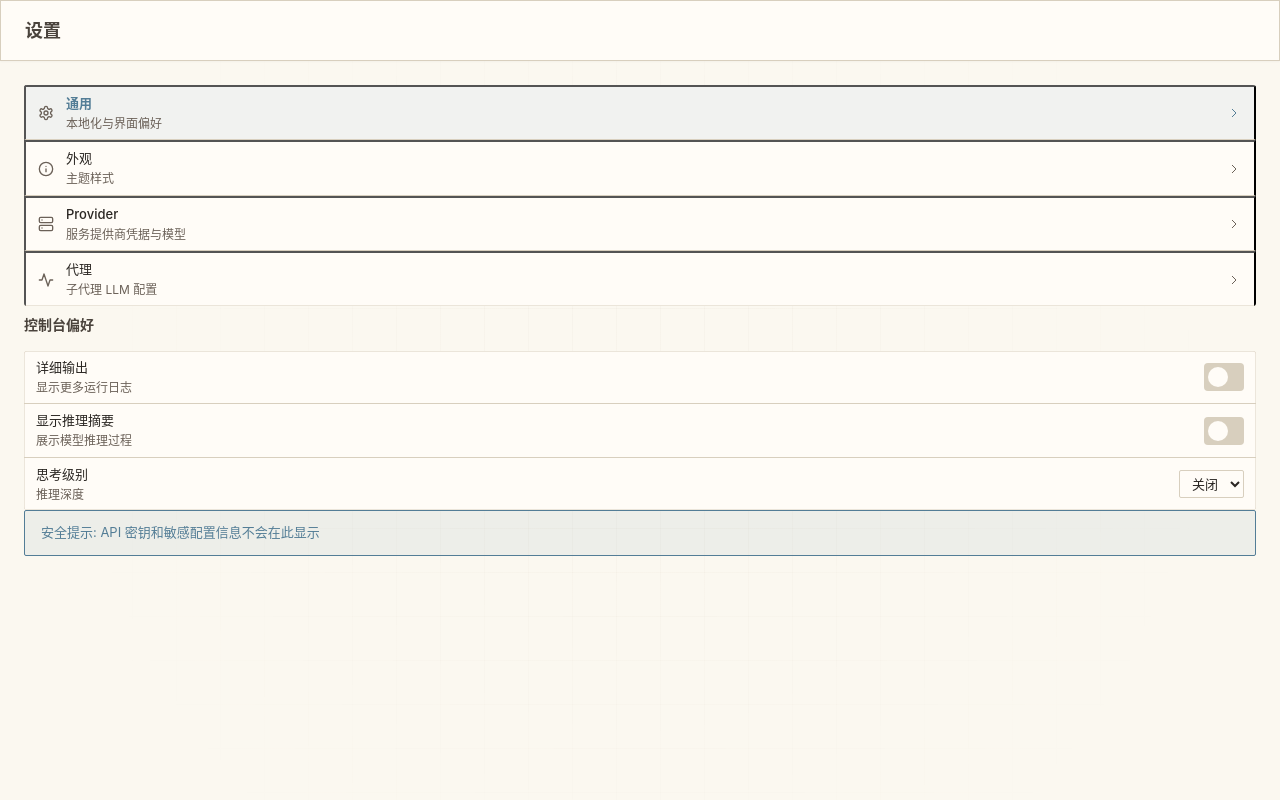
Test case: settings content parity › renders the appearance category with theme options in fallback mode
Click the button with test id "settings-nav-settings-appearance". click: (90, 179)
box: [24,140,1256,196]
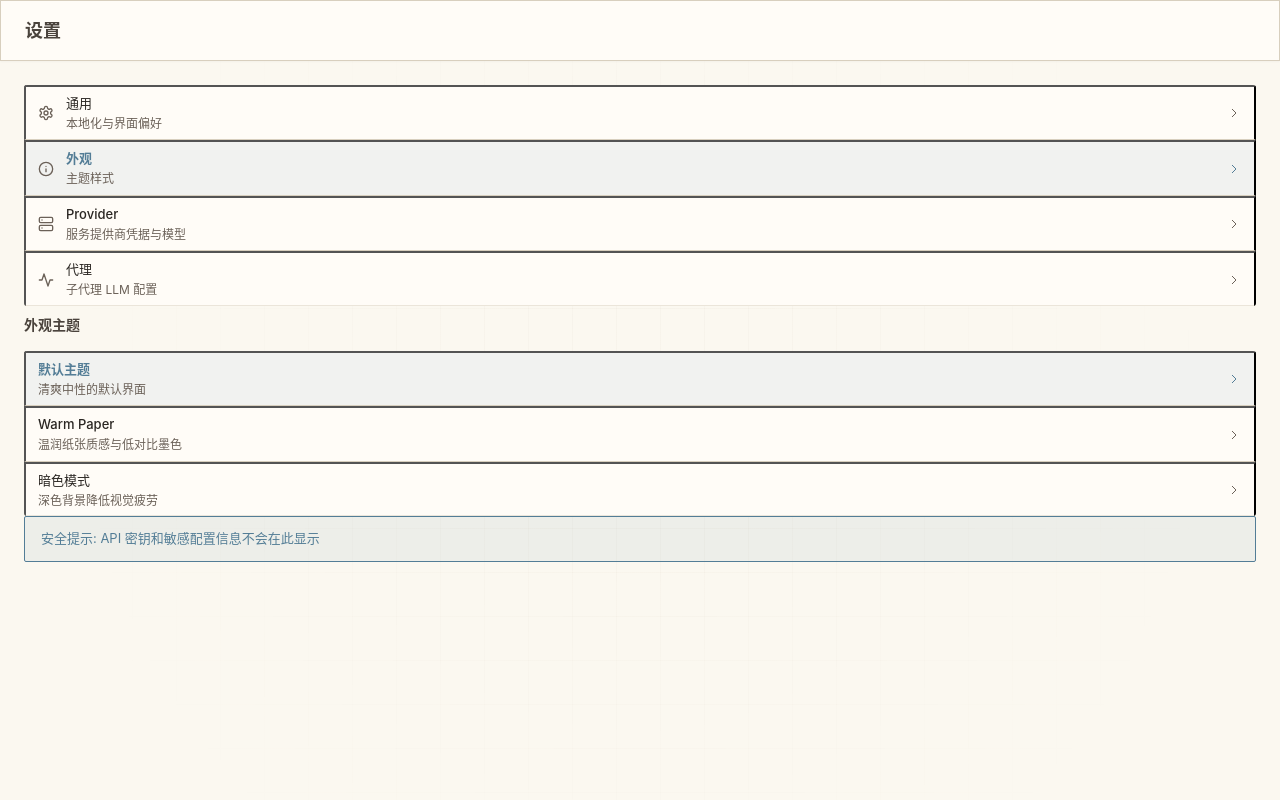
Result: the element with test id "settings-appearance-tab" is shown at [24,306,1256,516]
Result: the button with test id "theme-option-default" is shown at [24,351,1256,406]
